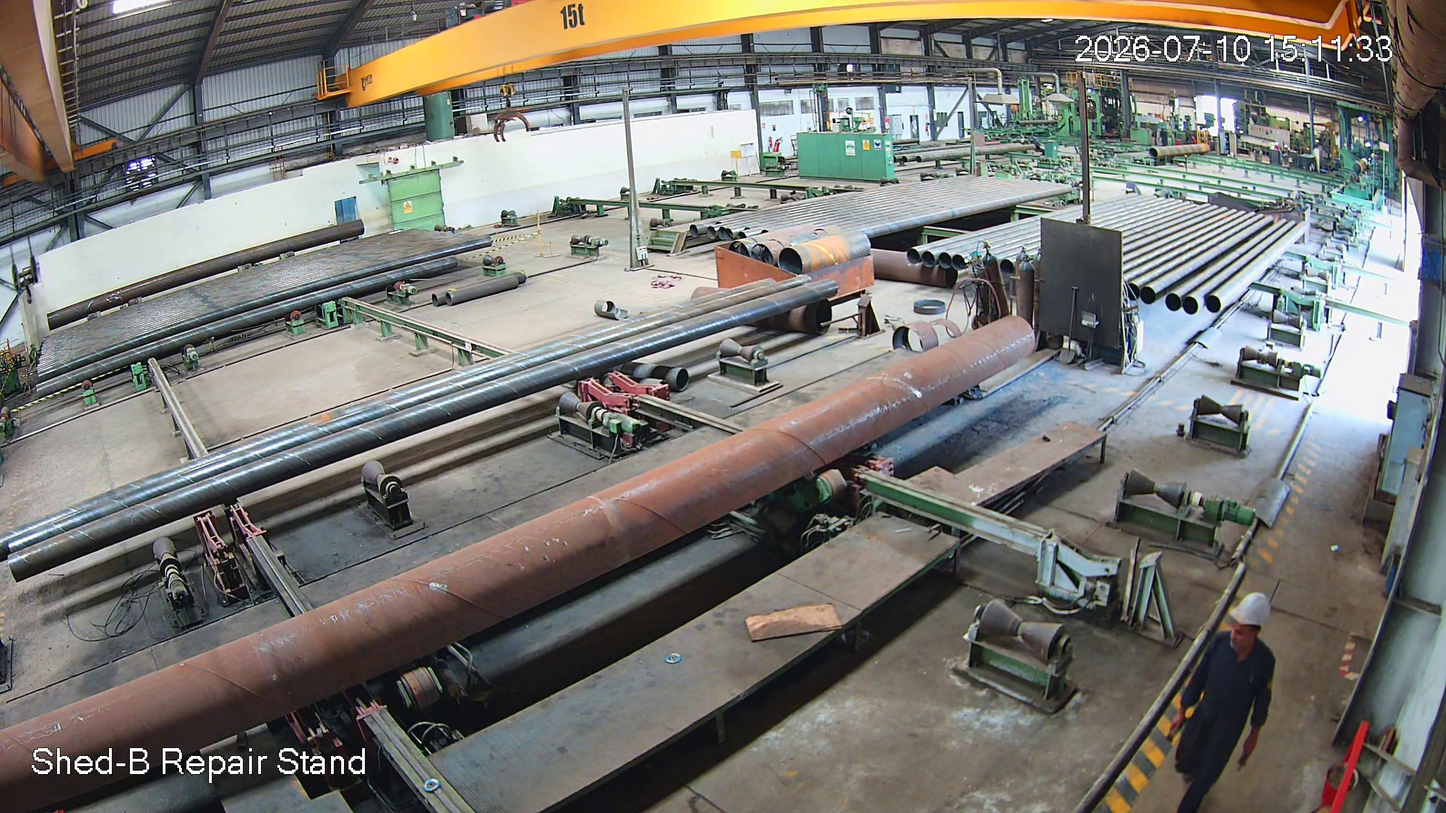Helmet: (1220, 585, 1279, 675)
Person: (1157, 591, 1284, 813)
